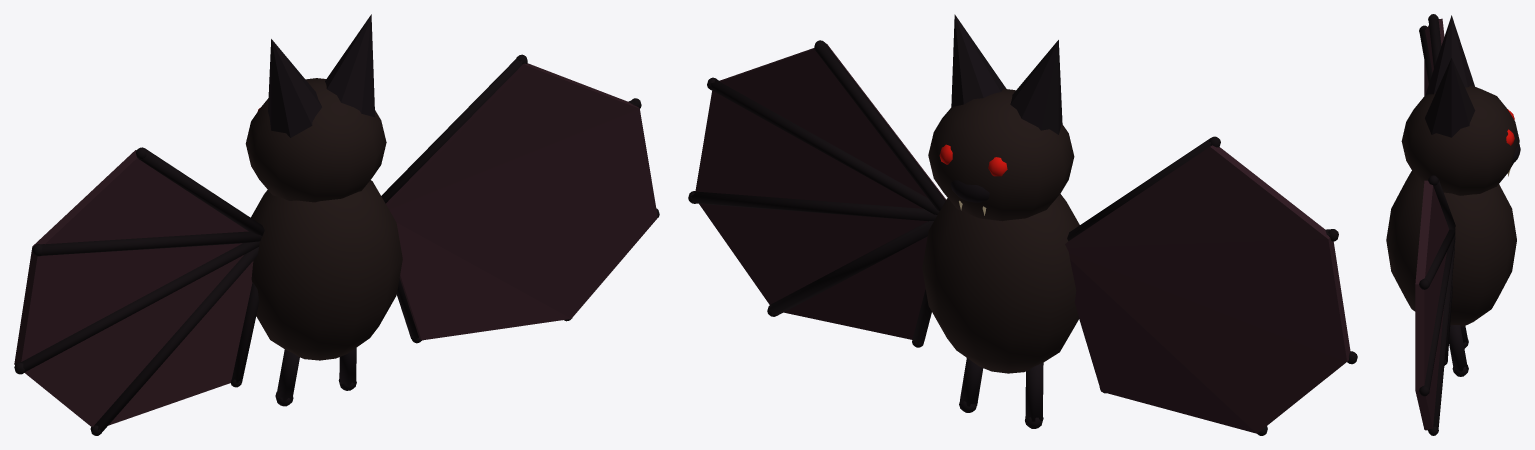
The model's file is mob_kelelawar.obj.
3 views of the same model, side by side, from view 1: azimuth 30°, elevation 25°; view 2: azimuth 150°, elevation 25°; view 3: azimuth 270°, elevation 25° (orthographic). The views are drawn at different scales.
Parts seen in each view (by area): view 1: mob_kelelawar; view 2: mob_kelelawar; view 3: mob_kelelawar.
Boxes of the visible parts, x1,y1,x2,y2 form: mob_kelelawar: (14,14,659,435); mob_kelelawar: (688,14,1357,435); mob_kelelawar: (1386,14,1520,435).
Bounding box in the file's own units: 1.42 × 0.7931 × 0.296.
